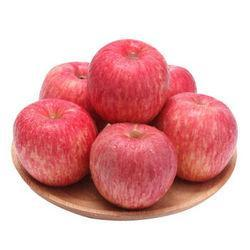apple: (94, 122, 180, 211), (11, 103, 97, 189), (156, 91, 237, 182), (87, 39, 166, 122)
